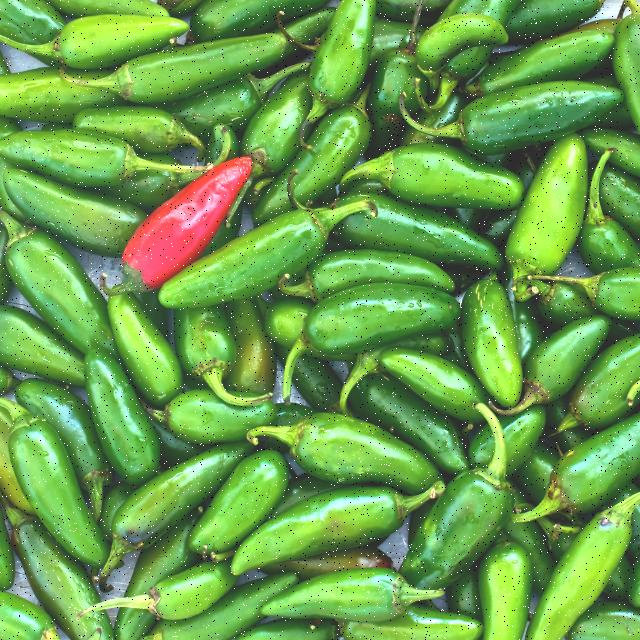Chili Pepper: (159, 200, 376, 308), (400, 403, 513, 590), (283, 283, 461, 401), (101, 157, 251, 296), (230, 482, 446, 577), (0, 398, 109, 569), (61, 32, 294, 103), (247, 413, 442, 495), (432, 80, 625, 154), (507, 132, 589, 300), (12, 230, 117, 355), (0, 129, 179, 186), (278, 249, 456, 302), (555, 334, 640, 435), (513, 466, 590, 523), (59, 230, 102, 254)
